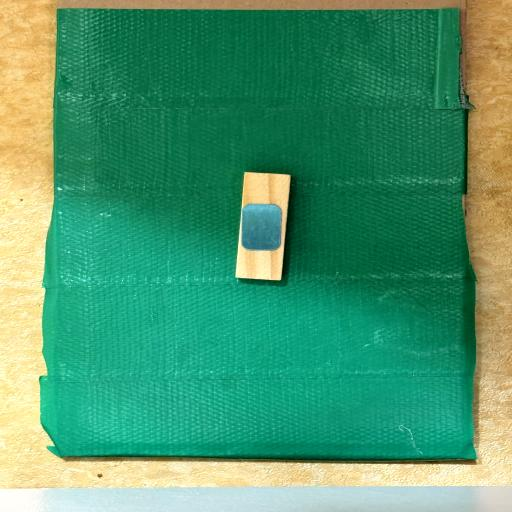objects: (234, 171, 291, 282)
